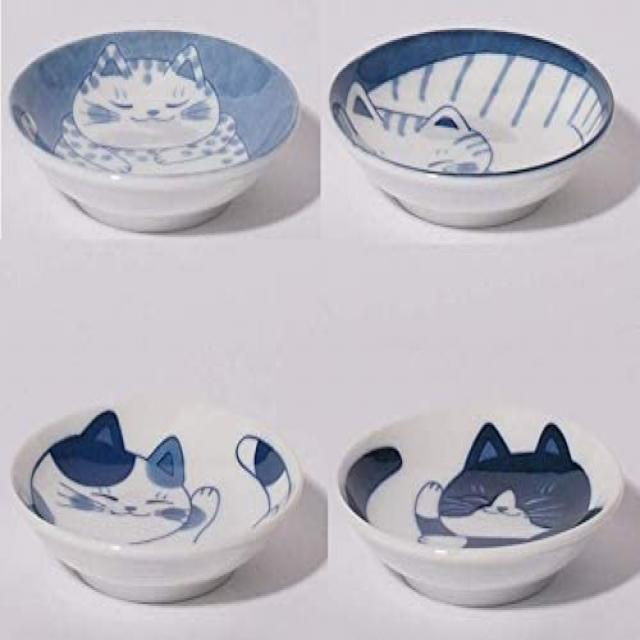non-organic waste: (16, 357, 318, 608), (327, 23, 640, 231), (334, 389, 638, 602), (13, 36, 308, 219)
